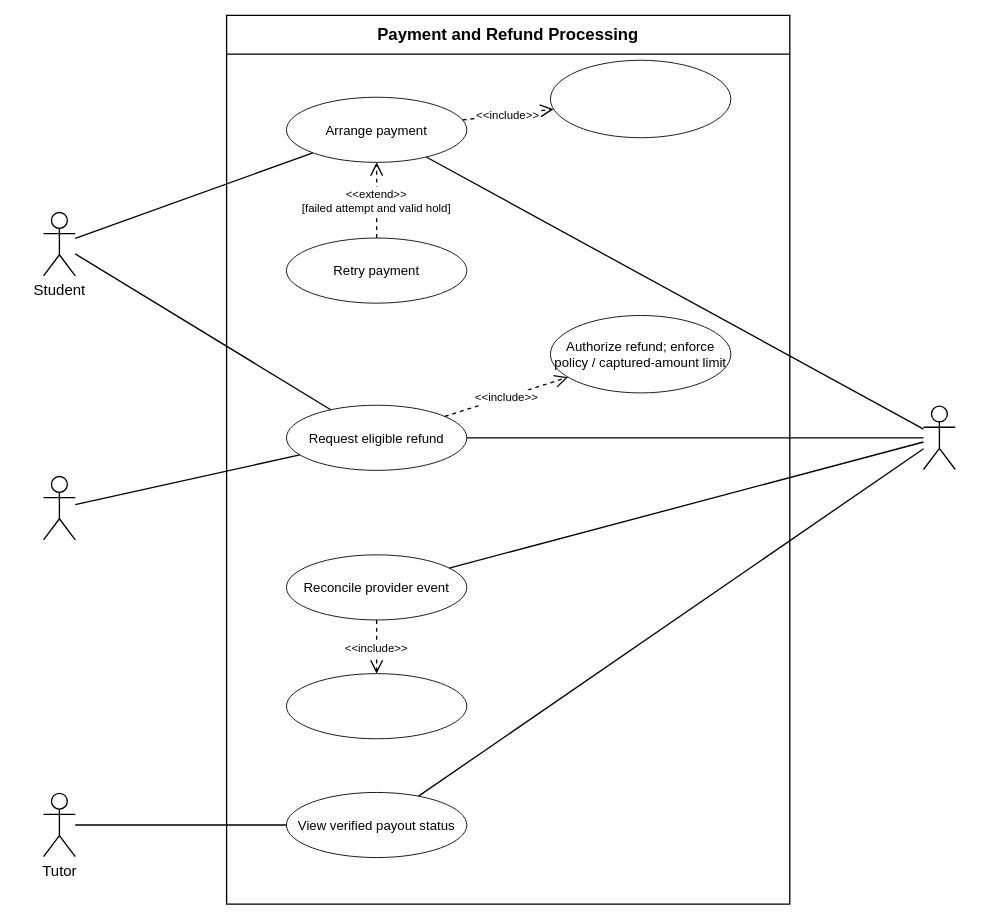
The diagram is 1003 pixels wide and 920 high, and some of its shapes have lost their labels. Each missing label, with the centre of its shape:
"Administrator" goes at point (59, 507).
"Compute amount; create idempotent payment" goes at point (640, 98).
"Stripe Connect" goes at point (939, 437).
"Verify signature and deduplicate event" goes at point (376, 706).
